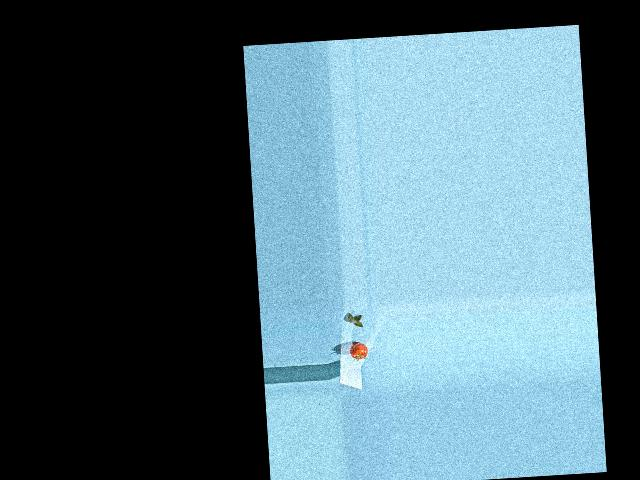tomato: (349, 342, 368, 360)
